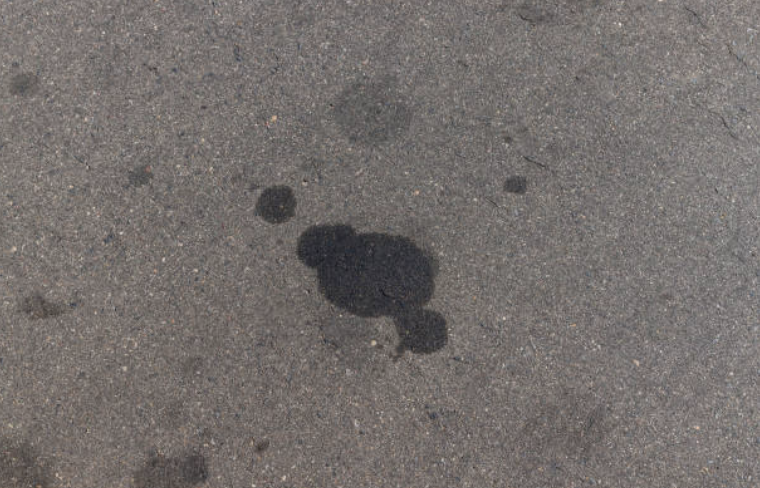oil: (149, 111, 224, 179), (165, 36, 207, 75), (65, 225, 106, 245), (1, 220, 28, 243), (10, 145, 42, 163), (128, 93, 150, 111), (252, 87, 265, 97)
